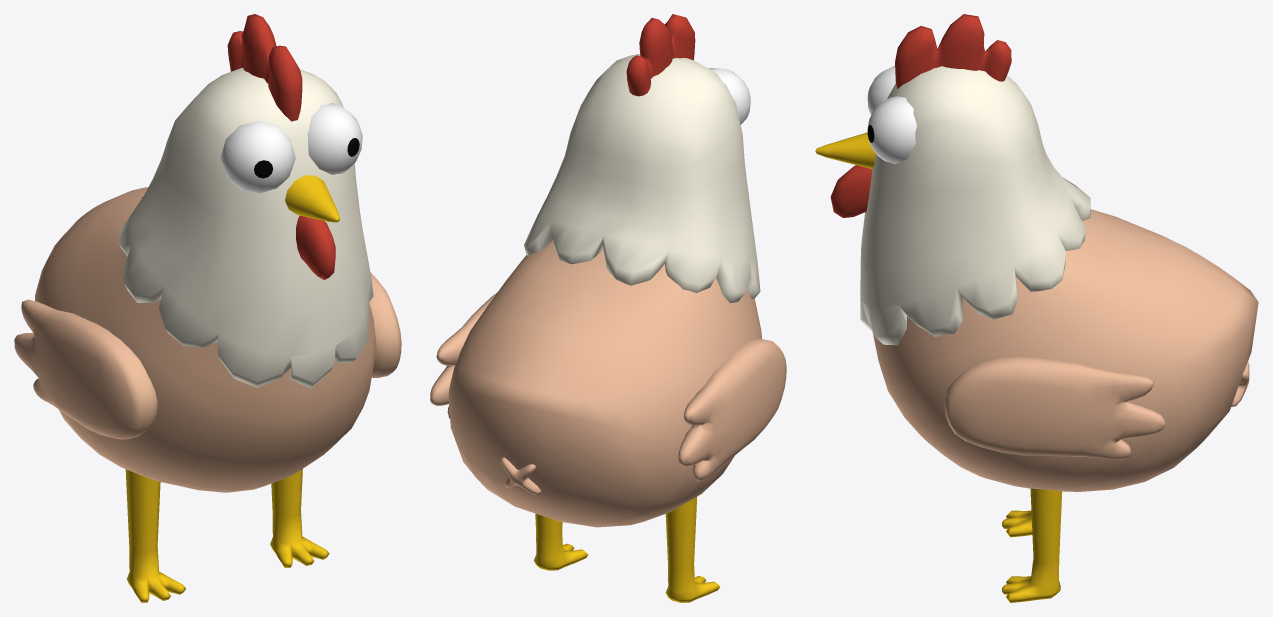
Rendered from chicken_naked.fbx.
3 renders of one model, left to right at view 1: azimuth 30°, elevation 25°; view 2: azimuth 150°, elevation 25°; view 3: azimuth 270°, elevation 25°, orthographic. The views are drawn at different scales.
Visible parts, largest first — view 1: chicken_naked; view 2: chicken_naked; view 3: chicken_naked.
Part boxes in pixels (box(x1,y1,x2,y2)): chicken_naked: box(14, 14, 401, 602); chicken_naked: box(430, 14, 786, 602); chicken_naked: box(815, 14, 1258, 602).
Bounding box in the file's own units: 110 × 204 × 150.
